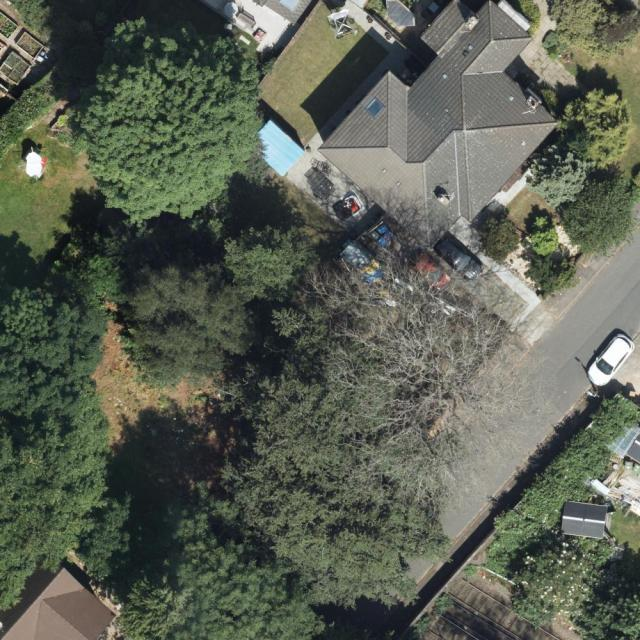roof: (318, 0, 562, 257), (0, 566, 118, 640)
skylight: (362, 90, 390, 123)
